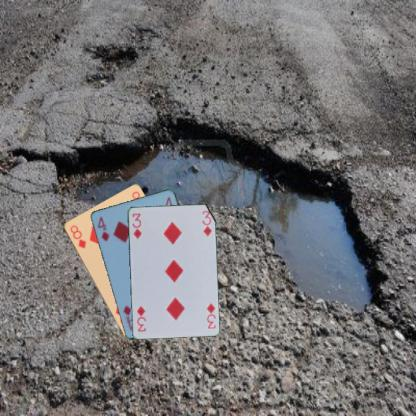3d: (129, 210, 143, 240), (204, 300, 217, 330)
4d: (95, 214, 110, 242)
8d: (67, 222, 87, 250)
